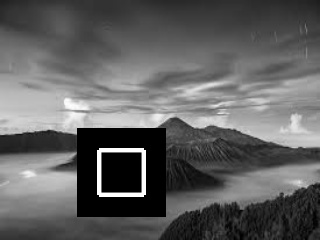square: (77, 128, 166, 217)
